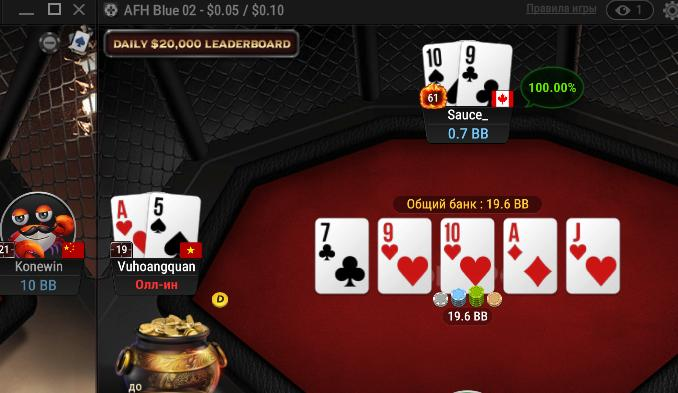10h: (441, 218, 495, 294)
10s: (422, 44, 459, 107)
5s: (147, 191, 202, 258)
7c: (316, 218, 368, 294)
9c: (459, 40, 513, 108)
9h: (378, 218, 432, 292)
Ad: (503, 219, 557, 293)
Ah: (110, 195, 147, 257)
Jh: (567, 219, 619, 293)
